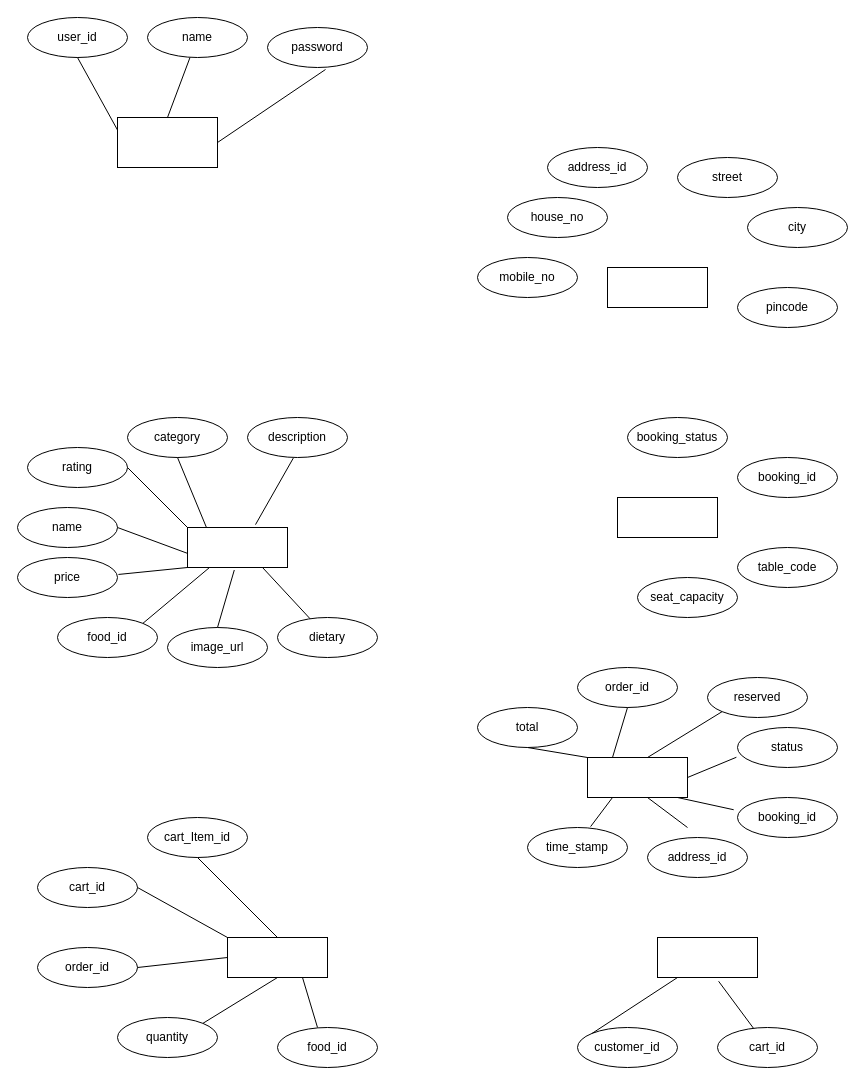
Image size: 865x1085. Some labels were removed from this diagram. The shapes that lost their labels are listed below. From the top down, each one's centre as x and y in pixels, then its label:
At (x=167, y=142): "User".
At (x=657, y=287): "Address".
At (x=667, y=517): "Bookiing".
At (x=237, y=547): "Food Item".
At (x=637, y=777): "Order".
At (x=277, y=957): "Cart Item".
At (x=707, y=957): "Cart".
